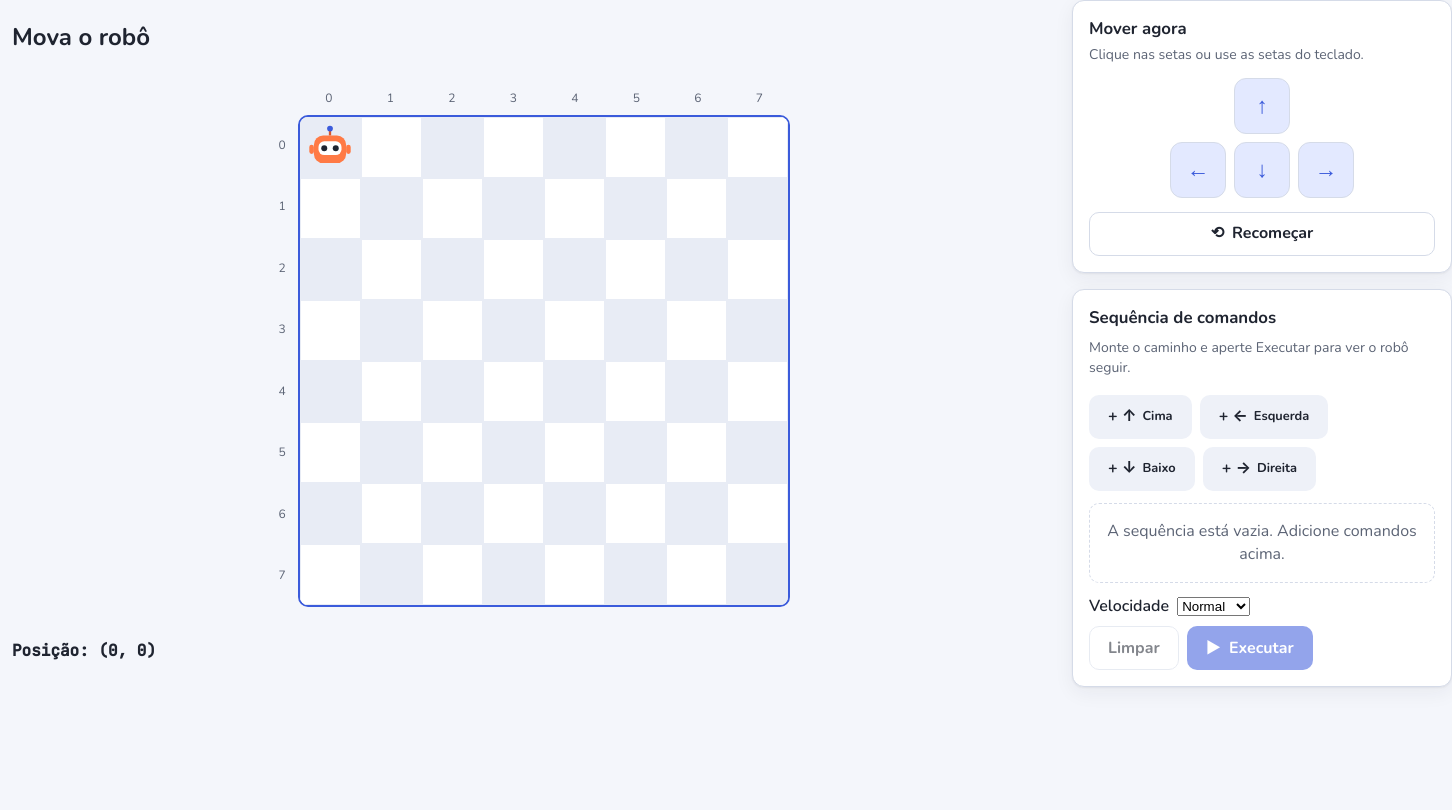
Scenario: Montar a sequência (RF14) › CT-SEQ-05: adiciona comandos ao fim da lista numerada
Expected: the text "A sequência está vazia. Adicione comandos acima." is shown, [1089, 503, 1435, 583]
Click the button with aria-label "Adicionar Direita" at (1259, 469), box [1203, 447, 1316, 491]
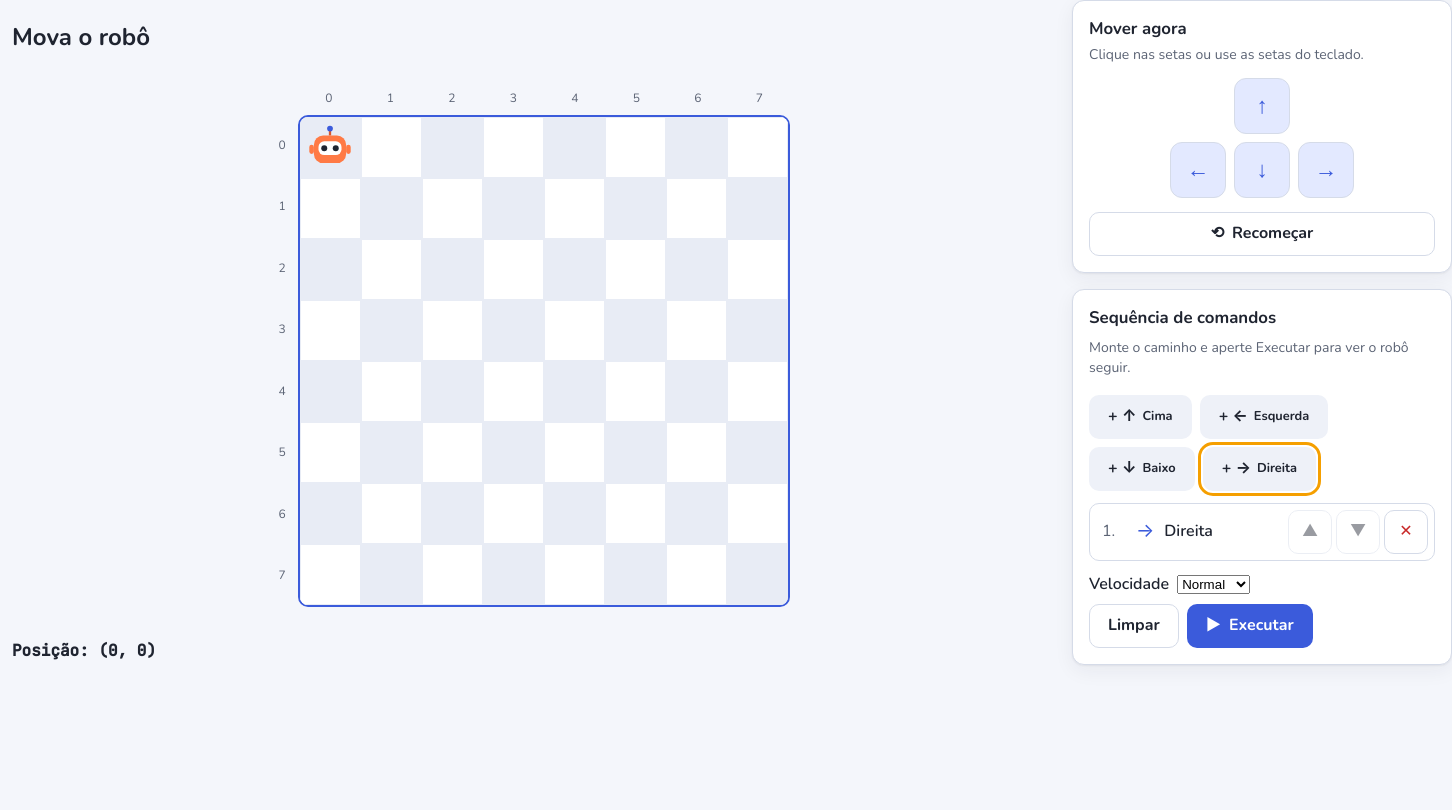
Click the button with aria-label "Adicionar Baixo" at (1142, 469), box [1089, 447, 1195, 491]
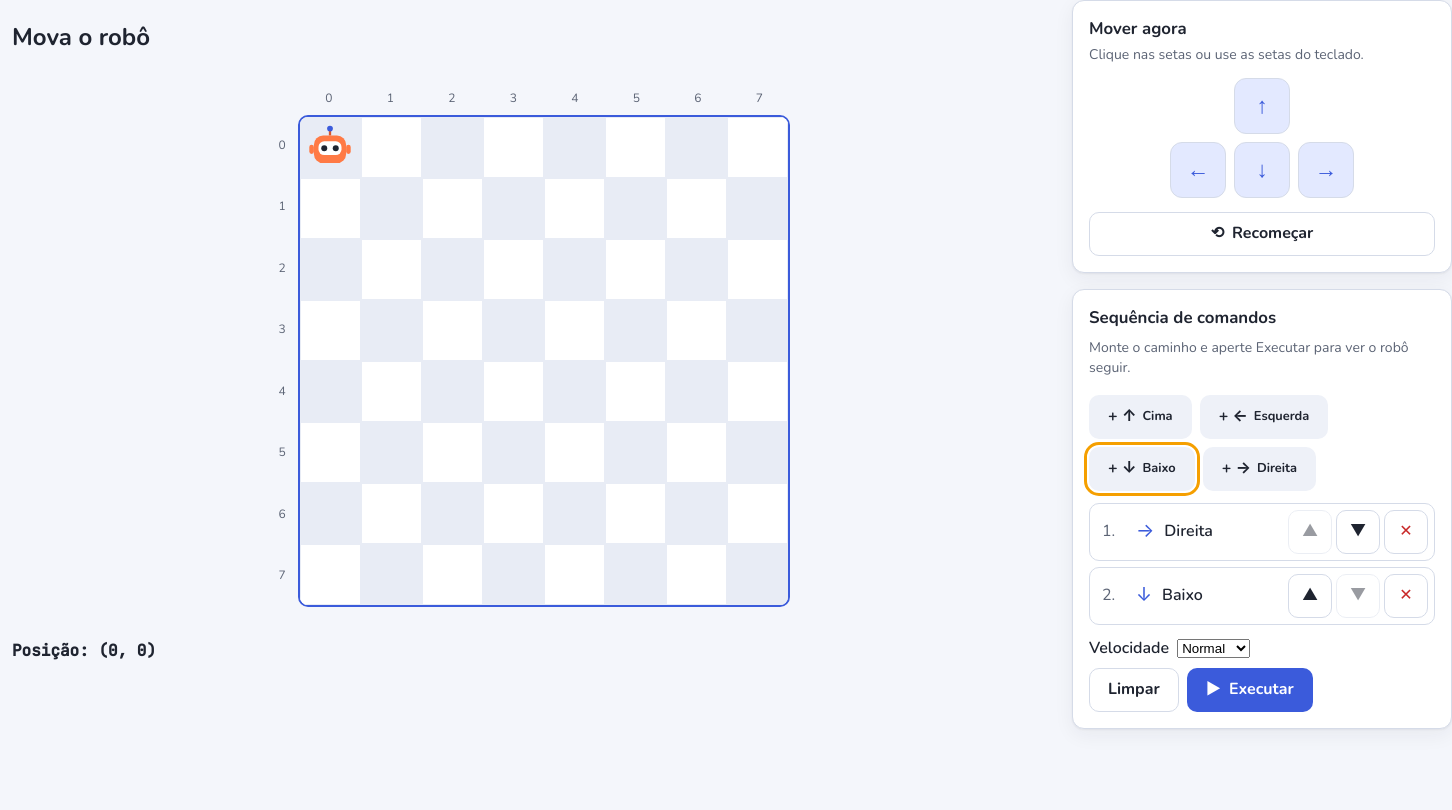
Result: the list item "1. → Direita ▲ ▼ ✕" is shown at [1089, 503, 1435, 561]
Result: the list item "2. ↓ Baixo ▲ ▼ ✕" is shown at [1089, 567, 1435, 625]
